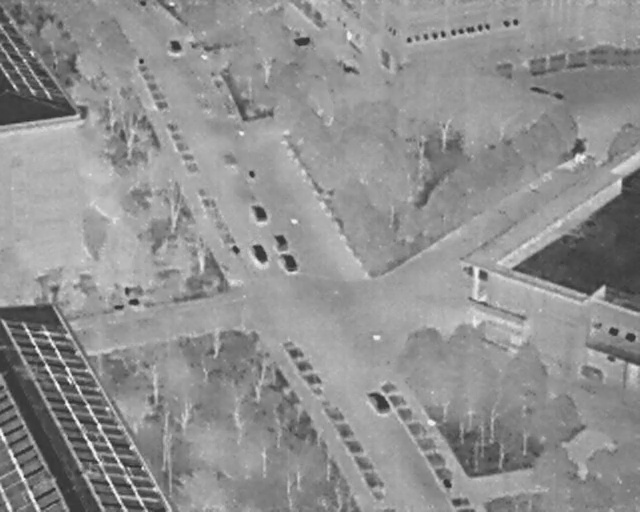Car: (367, 387, 392, 416), (250, 241, 270, 266), (281, 251, 299, 274), (272, 231, 290, 253), (251, 202, 268, 224), (168, 38, 182, 54)
